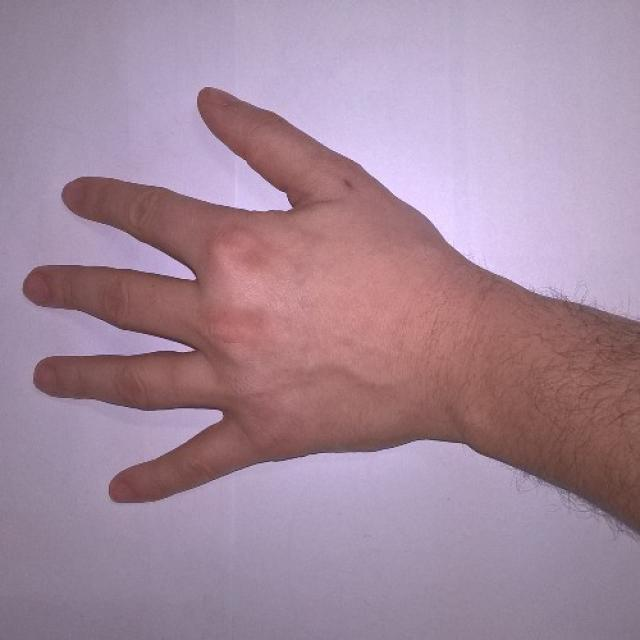paper: (23, 84, 470, 506)
